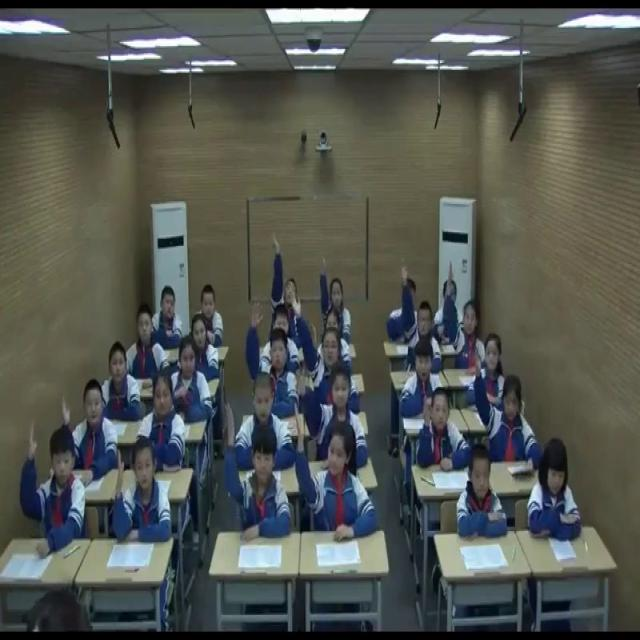focused: (526, 432, 586, 544), (234, 376, 297, 470), (457, 449, 506, 543), (144, 370, 186, 475), (400, 340, 449, 418), (127, 297, 166, 376), (102, 342, 142, 419), (470, 335, 510, 411), (264, 302, 306, 373), (173, 343, 210, 422), (316, 306, 352, 372), (197, 283, 229, 353), (190, 314, 222, 382), (152, 289, 184, 347)
raising_hand: (291, 402, 381, 540), (220, 402, 292, 543), (21, 414, 89, 559), (470, 349, 539, 467), (298, 353, 368, 469), (109, 433, 175, 546), (243, 296, 300, 422), (56, 376, 122, 481), (287, 291, 351, 396), (398, 261, 442, 374), (417, 387, 471, 477), (443, 256, 483, 368), (317, 252, 353, 343), (268, 231, 301, 330)
